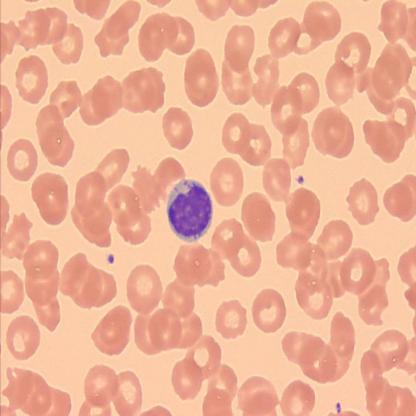Lymphocyte: (166, 178, 213, 242)
